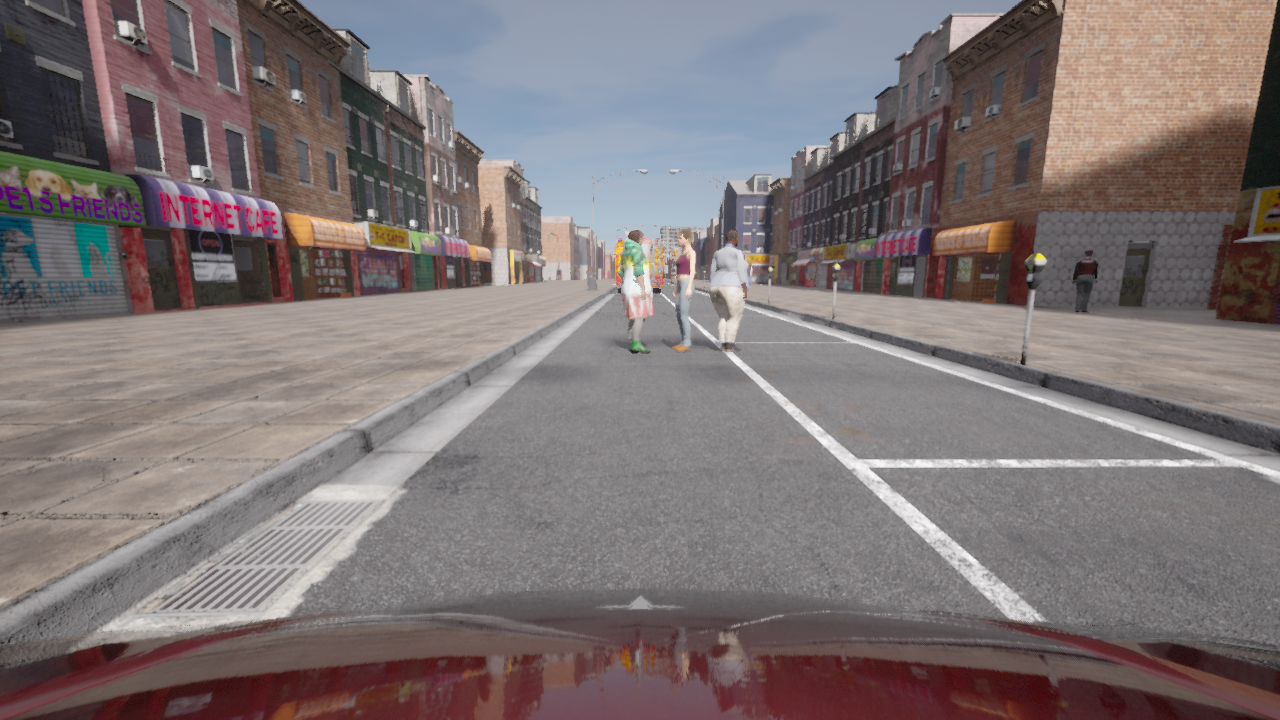cyclist: (0, 588, 1279, 719), (617, 231, 661, 291)
pedestrian: (709, 229, 749, 351), (618, 229, 653, 353), (672, 229, 695, 351), (1073, 249, 1098, 312), (748, 264, 752, 288)
